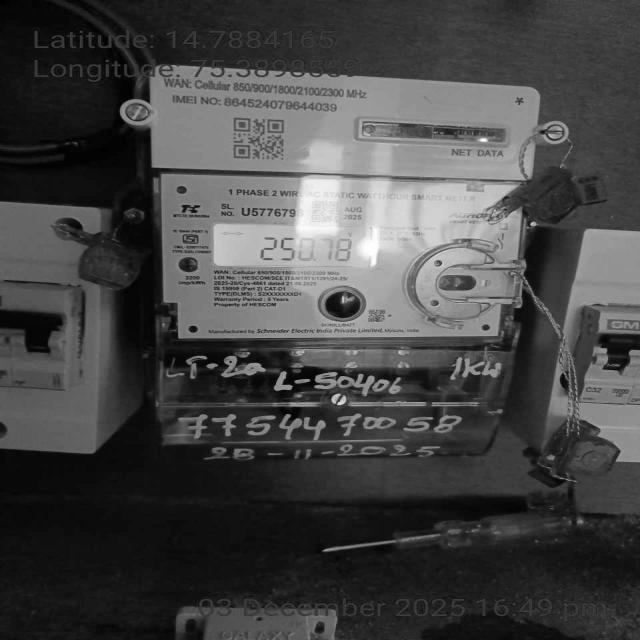meter: (147, 67, 540, 338)
